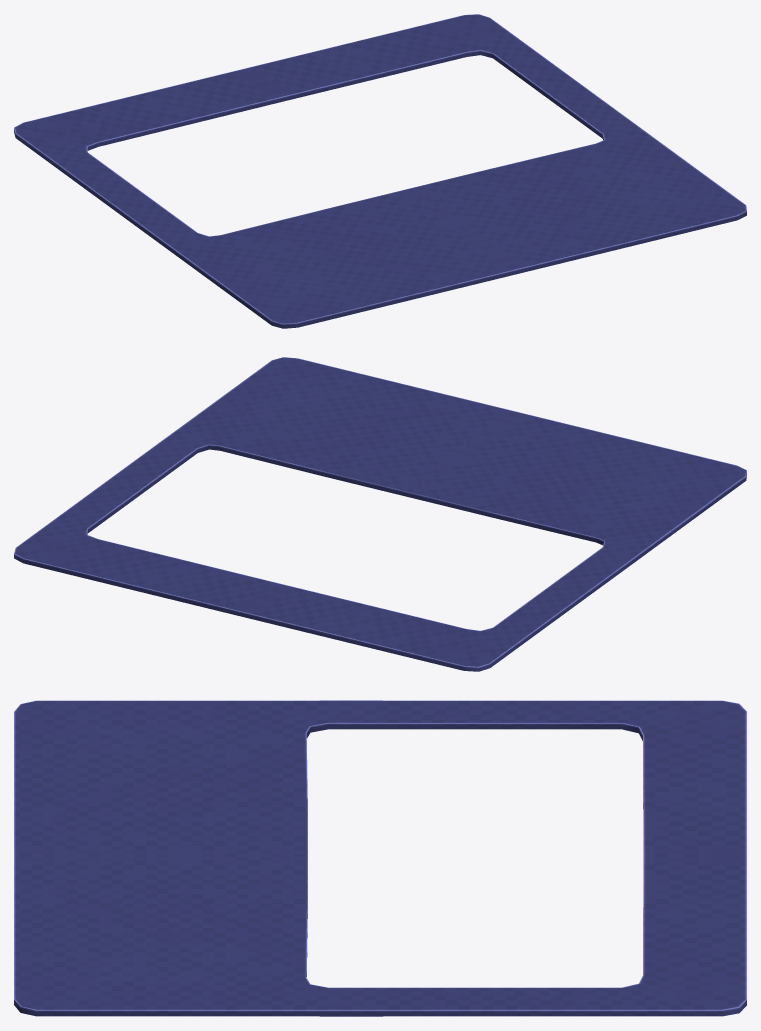
The model's file is obj_floor.gltf.
3 views of the same model, one above another, from view 1: azimuth 30°, elevation 25°; view 2: azimuth 150°, elevation 25°; view 3: azimuth 270°, elevation 25° (orthographic). The views are drawn at different scales.
Visible parts, largest first — view 1: obj_floor; view 2: obj_floor; view 3: obj_floor.
Boxes of the visible parts, bbox=[...] form: obj_floor: bbox=[14, 14, 746, 328]; obj_floor: bbox=[14, 357, 746, 671]; obj_floor: bbox=[14, 700, 746, 1016].
Size of what is drawn, in the model's own units: 16 by 0.15 by 16.
Materials: 1 (1 with a texture image).
